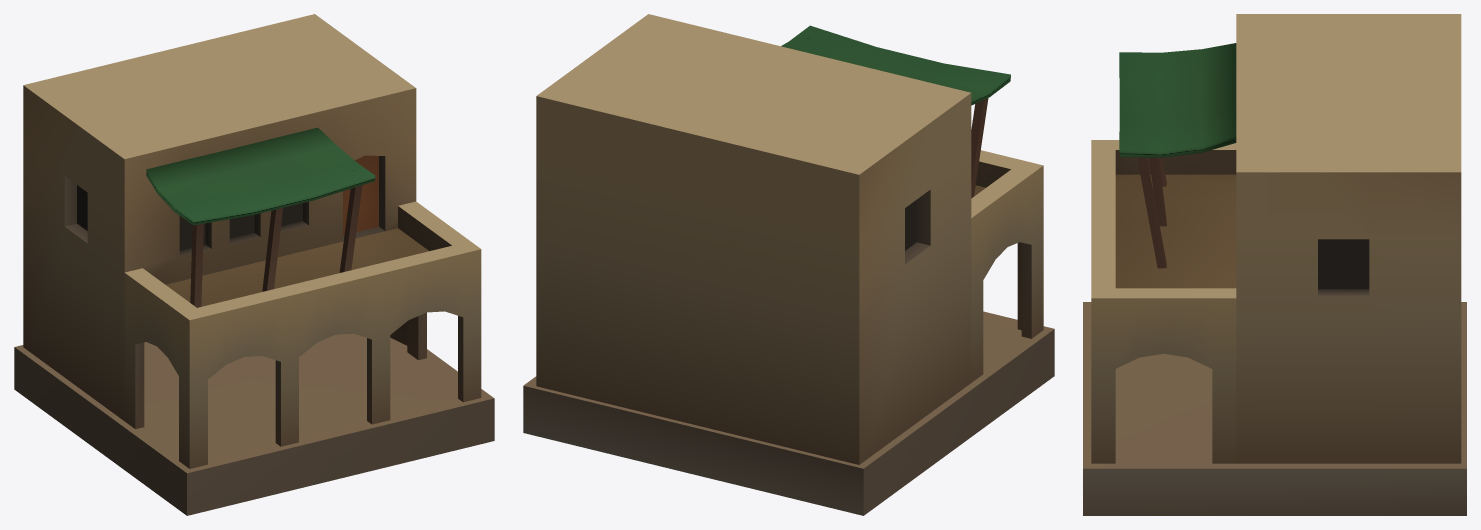
Rendered from Historical_DesertBuildingOld_alt01.glb.
3 renders of one model, left to right at view 1: azimuth 30°, elevation 25°; view 2: azimuth 150°, elevation 25°; view 3: azimuth 270°, elevation 25°, orthographic. The views are drawn at different scales.
Parts seen in each view (by area): view 1: alt1.015; view 2: alt1.015; view 3: alt1.015.
Part boxes in pixels (x1,y1,x2,y2): alt1.015: (14, 14, 494, 515); alt1.015: (523, 14, 1054, 515); alt1.015: (1083, 14, 1466, 515).
Bounding box in the file's own units: 13.37 × 12.67 × 13.01.
